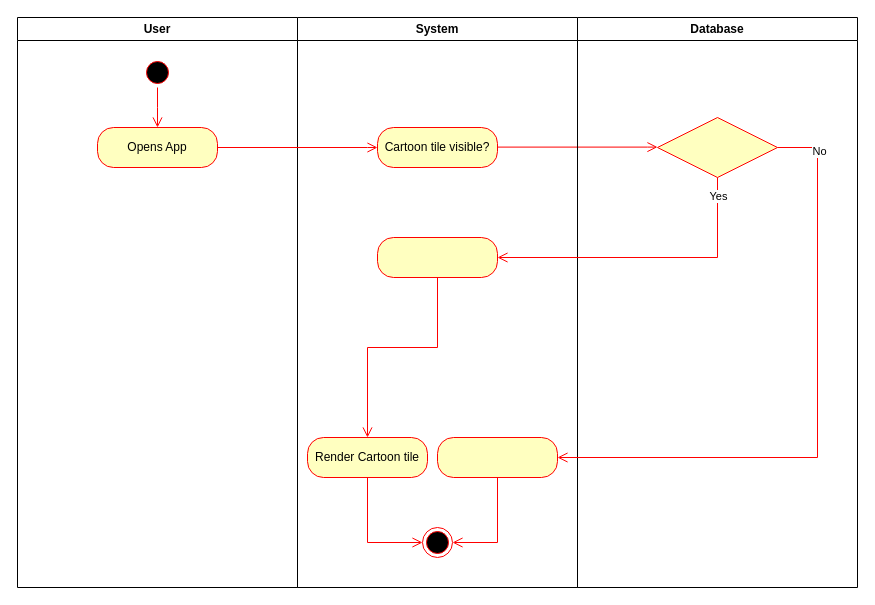
This 875x605 diagram has some shape labels left out. Each missing label, with the centre of its shape:
Call xkcd API: the point at 437,257
Cartoon tile visible for given user: the point at 717,147
Do not render the Cartoon tile: the point at 497,457
